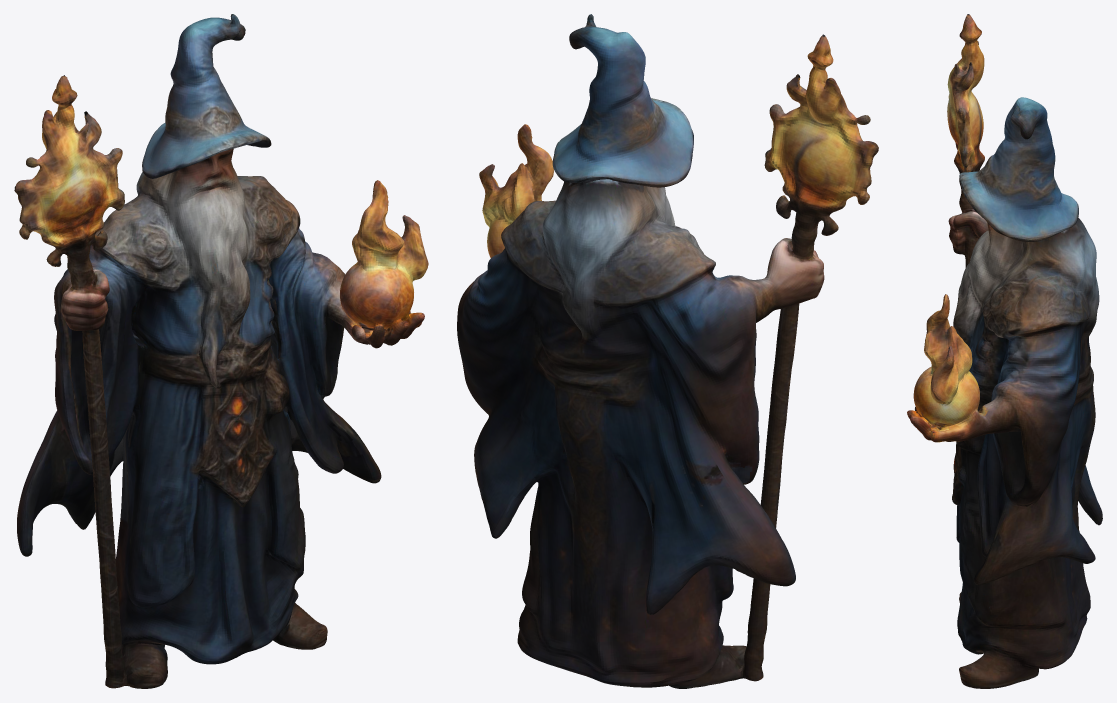
Rendered from game-gof-model-01.glb.
The picture shows the model from 3 angles, left to right: view 1: azimuth 30°, elevation 25°; view 2: azimuth 150°, elevation 25°; view 3: azimuth 270°, elevation 25°; orthographic projection. The views are drawn at different scales.
Visible parts, largest first — view 1: output; view 2: output; view 3: output.
Boxes of the visible parts, bbox=[...] form: output: bbox=[14, 14, 428, 688]; output: bbox=[457, 14, 878, 688]; output: bbox=[907, 14, 1102, 688].
Size of the model in its own units: 1.32 by 2 by 0.6331.
1 material, 1 textured.
